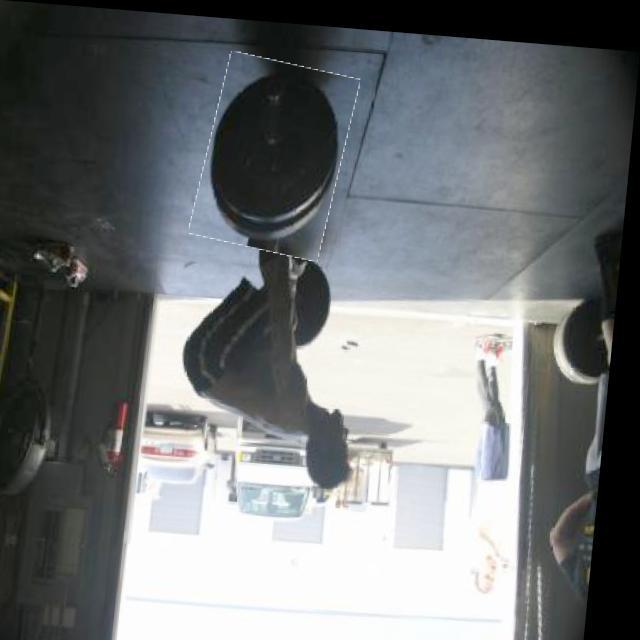barbell: (198, 51, 357, 254)
